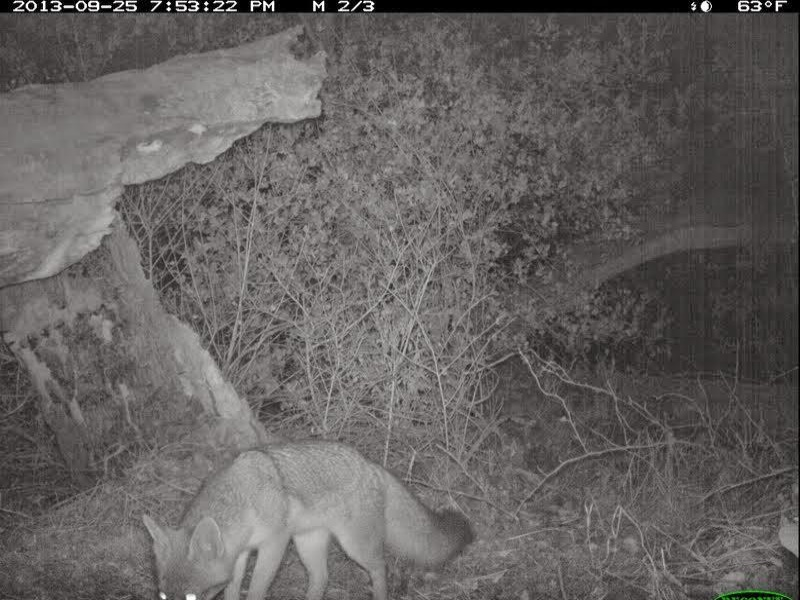fox: (139, 439, 473, 600)
